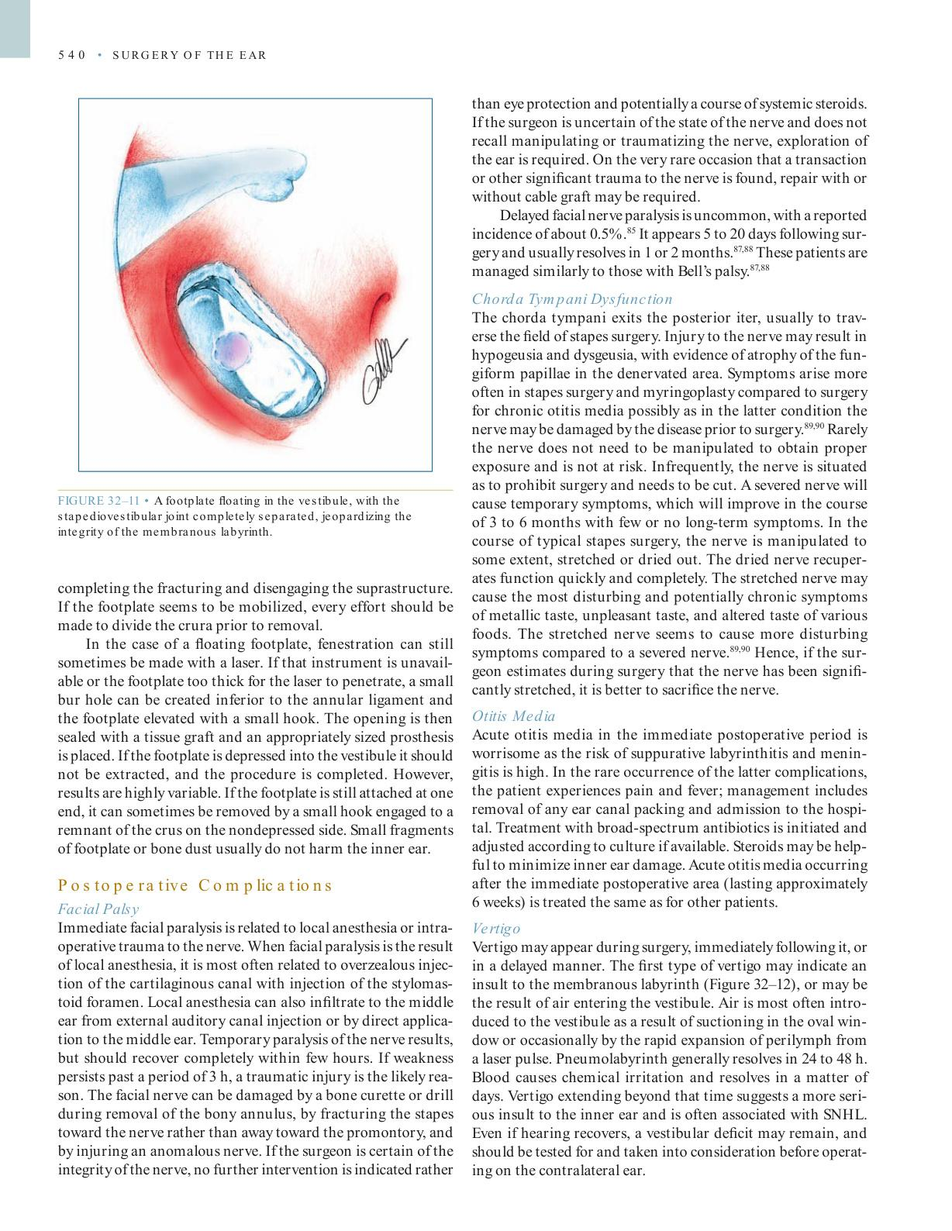caption: (56, 493, 412, 541)
header: (111, 49, 266, 62)
image: (85, 105, 426, 465)
section-heading: (56, 876, 332, 895)
sub-section-heading: (471, 291, 674, 309), (56, 901, 140, 918), (472, 708, 556, 723), (472, 921, 521, 938)
text: (471, 310, 873, 699), (56, 580, 455, 858), (55, 919, 454, 1180), (471, 939, 869, 1180), (470, 726, 870, 911), (469, 96, 870, 280)
